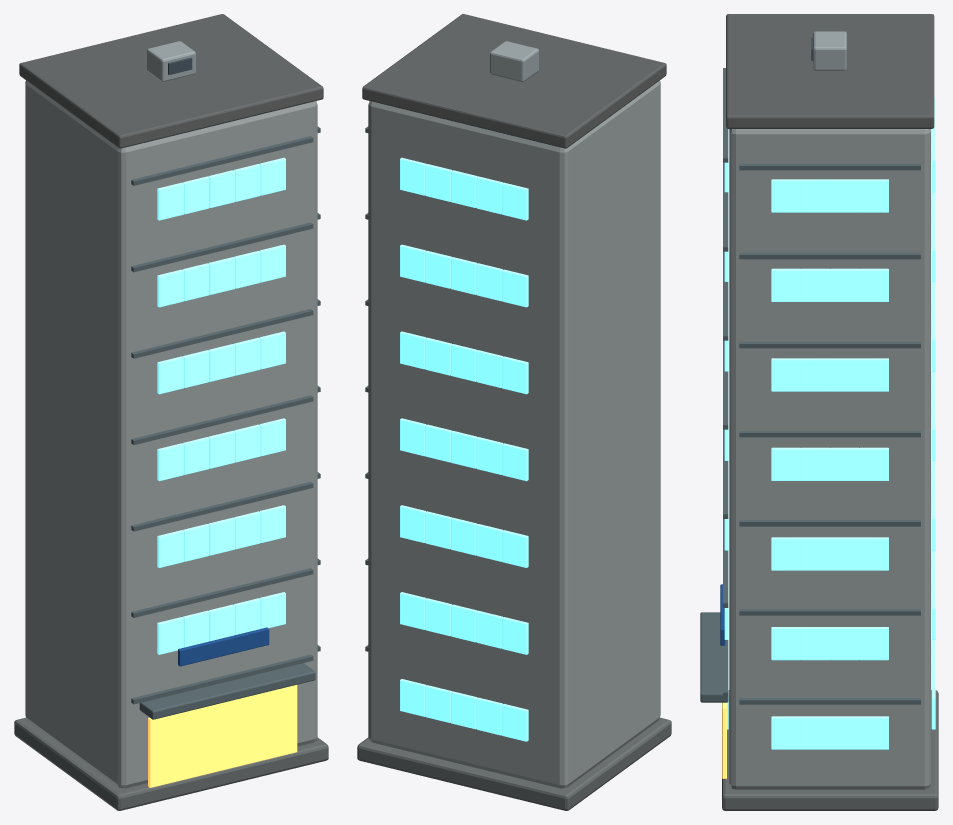
The model's file is commercial_hotel.glb.
The picture shows the model from 3 angles, left to right: view 1: azimuth 30°, elevation 25°; view 2: azimuth 150°, elevation 25°; view 3: azimuth 270°, elevation 25°; orthographic projection. The views are drawn at different scales.
Visible parts, largest first — view 1: main_massing, roof_slab, storefront_glazing, foundation, storefront_awning, shop_sign, facade_band_front.005, facade_band_front.004, facade_band_front.001, facade_band_front.002, facade_band_front.006, facade_band_front (+32 smaller); view 2: main_massing, roof_slab, foundation, hvac_unit, rear_window.030, rear_window.025, rear_window, rear_window.010, rear_window.015, rear_window.020, rear_window.005, rear_window.007 (+27 smaller); view 3: main_massing, roof_slab, foundation, storefront_awning, facade_band_side.004, facade_band_side.005, facade_band_side.006, hvac_unit, facade_band_side, facade_band_side.001, facade_band_side.002, facade_band_side.003 (+28 smaller).
Boxes of the visible parts, box(x1,y1,x2,y2) form: main_massing: box(25, 80, 317, 788); roof_slab: box(19, 14, 323, 148); storefront_glazing: box(148, 685, 297, 787); foundation: box(14, 717, 328, 810); storefront_awning: box(139, 663, 315, 719); shop_sign: box(178, 627, 269, 666); facade_band_front.005: box(131, 222, 313, 272); facade_band_front.004: box(131, 309, 313, 358); facade_band_front.001: box(131, 568, 313, 617); facade_band_front.002: box(131, 481, 313, 531); facade_band_front.006: box(131, 136, 313, 185); facade_band_front: box(131, 654, 313, 704); main_massing: box(368, 80, 660, 788); roof_slab: box(362, 14, 666, 148); foundation: box(357, 717, 671, 810); hvac_unit: box(490, 41, 538, 81); rear_window.030: box(502, 182, 528, 220); rear_window.025: box(502, 269, 528, 307); rear_window: box(502, 704, 528, 741); rear_window.010: box(502, 530, 528, 567); rear_window.015: box(502, 443, 528, 481); rear_window.020: box(502, 356, 528, 394); rear_window.005: box(502, 617, 528, 654); rear_window.007: box(451, 604, 477, 642); main_massing: box(729, 129, 930, 789); roof_slab: box(726, 14, 934, 128); foundation: box(722, 690, 938, 810); storefront_awning: box(700, 612, 728, 702); facade_band_side.004: box(739, 341, 920, 348); facade_band_side.005: box(739, 252, 920, 259); facade_band_side.006: box(739, 163, 920, 170); hvac_unit: box(813, 31, 846, 70); facade_band_side: box(739, 698, 920, 704); facade_band_side.001: box(739, 609, 920, 615); facade_band_side.002: box(739, 520, 920, 526); facade_band_side.003: box(739, 431, 920, 437).
Size of the model in its own units: 1.35 by 4.25 by 1.27.
